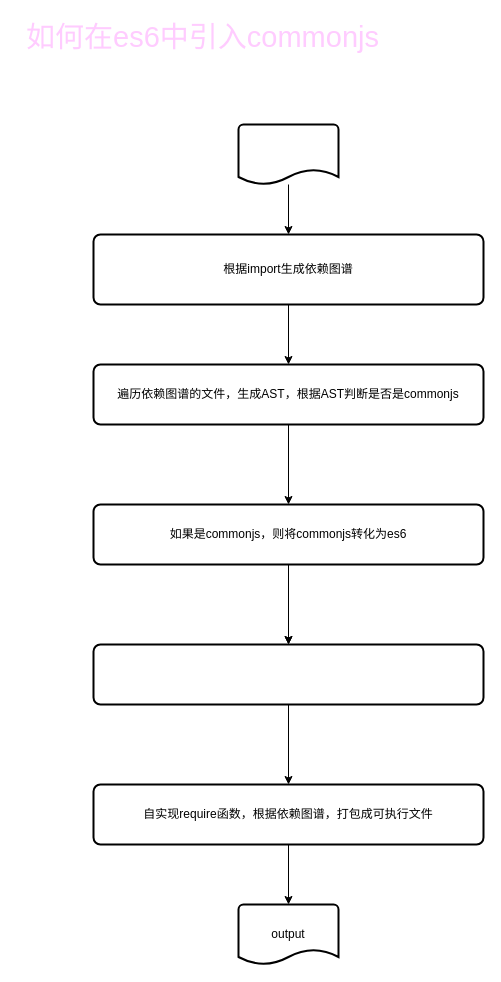
Image size: 501x982. Some labels were removed from this diagram. Here are the shapes that lost their labels. From the top down, the centre of each, then its label:
At [288,154]: "input".
At [288,674]: "es6代码的通过babel转为es5".
